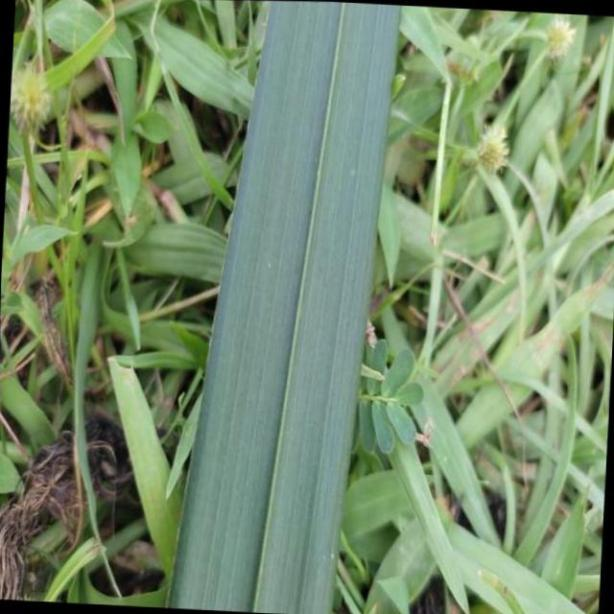Healthy: (176, 0, 403, 614)
